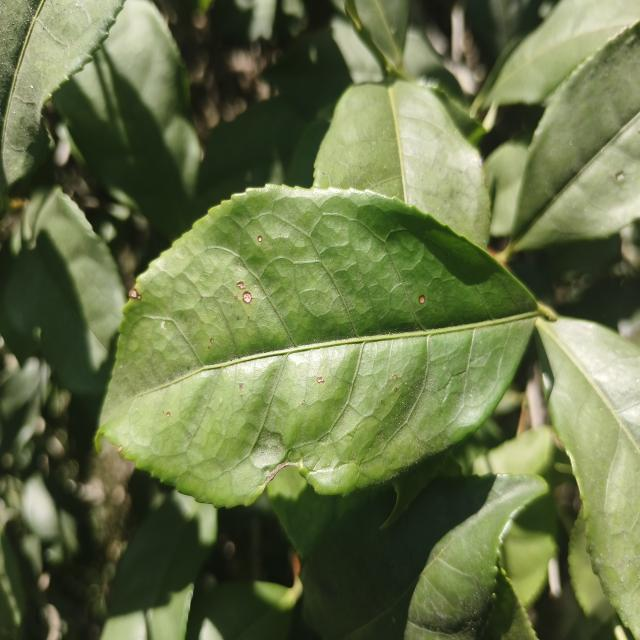Leaf: (101, 185, 538, 506), (301, 475, 545, 640), (53, 0, 207, 239), (537, 318, 640, 637), (512, 22, 640, 250), (314, 80, 489, 245), (0, 187, 126, 397), (0, 0, 123, 194), (101, 491, 217, 640), (480, 0, 640, 108), (196, 97, 308, 208), (262, 15, 383, 117), (186, 575, 302, 640), (403, 26, 468, 115), (352, 0, 410, 68)
